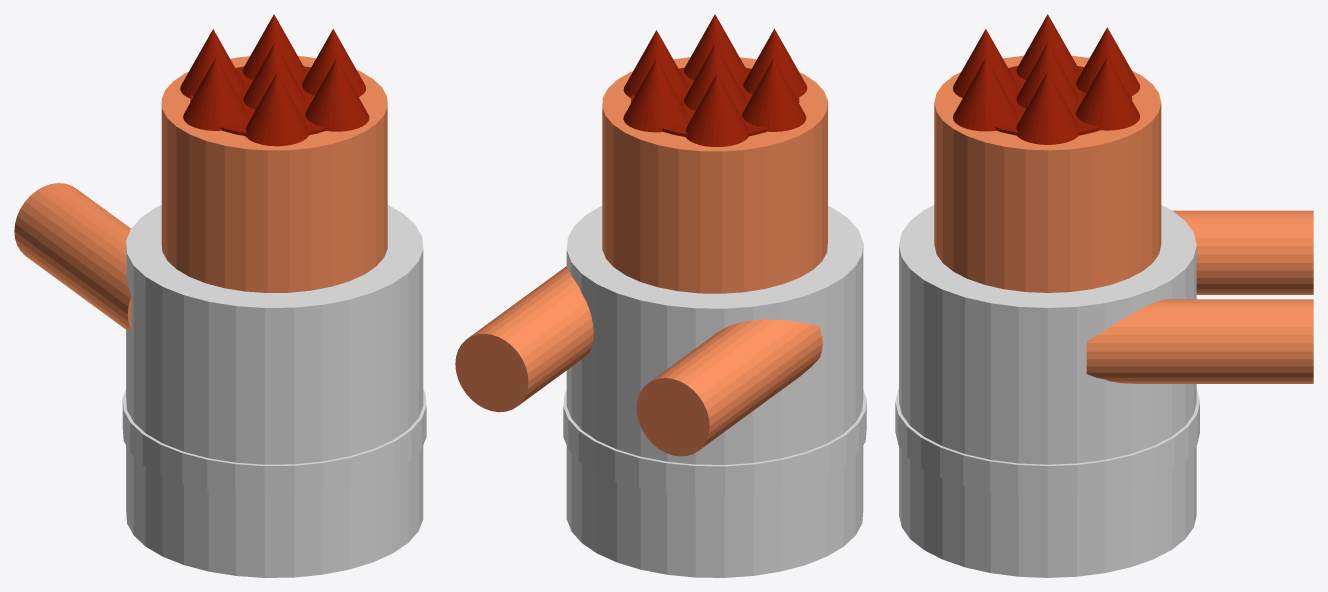
Rendered from Hephaestus.fbx.
3 views of the same model, side by side, from view 1: azimuth 30°, elevation 25°; view 2: azimuth 150°, elevation 25°; view 3: azimuth 270°, elevation 25° (orthographic).
Parts seen in each view (by area): view 1: Cylinder.006, Cylinder.001, Cylinder.003, Cylinder, Cone.003, Cone.006, Cone, Cone.001, Cone.004, Cone.002, Cone.005, Cylinder.002; view 2: Cylinder.006, Cylinder.001, Cylinder.003, Cylinder.005, Cylinder, Cone.002, Cone.005, Cone, Cone.003, Cone.006, Cone.001, Cone.004 (+1 smaller); view 3: Cylinder.006, Cylinder.001, Cylinder.005, Cylinder.003, Cylinder, Cone.001, Cone.006, Cone.005, Cone.002, Cone.003, Cone.004, Cone (+1 smaller).
Boxes of the visible parts, x1,y1,x2,y2 form: Cylinder.006: (126,205,423,577); Cylinder.001: (161,56,387,292); Cylinder.003: (14,183,131,330); Cylinder: (122,390,426,496); Cone.003: (245,73,308,146); Cone.006: (305,58,369,131); Cone: (183,57,247,130); Cone.001: (302,29,365,96); Cone.004: (243,43,305,109); Cone.002: (180,29,244,98); Cone.005: (243,14,305,80); Cylinder.002: (190,66,358,135); Cylinder.006: (566,205,863,577); Cylinder.001: (602,57,827,293); Cylinder.003: (636,319,822,456); Cylinder.005: (455,266,593,412); Cylinder: (563,390,866,496); Cone.002: (685,74,748,146); Cone.005: (623,59,687,132); Cone: (742,58,806,131); Cone.003: (743,29,807,97); Cone.006: (684,14,746,80); Cone.001: (623,30,687,97); Cone.004: (684,44,745,110); Cylinder.006: (899,205,1196,577); Cylinder.001: (934,55,1161,292); Cylinder.005: (1086,299,1313,383); Cylinder.003: (1173,210,1313,294); Cylinder: (895,389,1199,496); Cone.001: (1016,71,1078,144); Cone.006: (953,58,1016,131); Cone.005: (1076,57,1140,130); Cone.002: (1076,27,1140,95); Cone.003: (953,29,1016,98); Cone.004: (1016,43,1078,108); Cone: (1016,14,1078,80).
Size of the model in its own units: 9 by 15.4 by 12.35.
